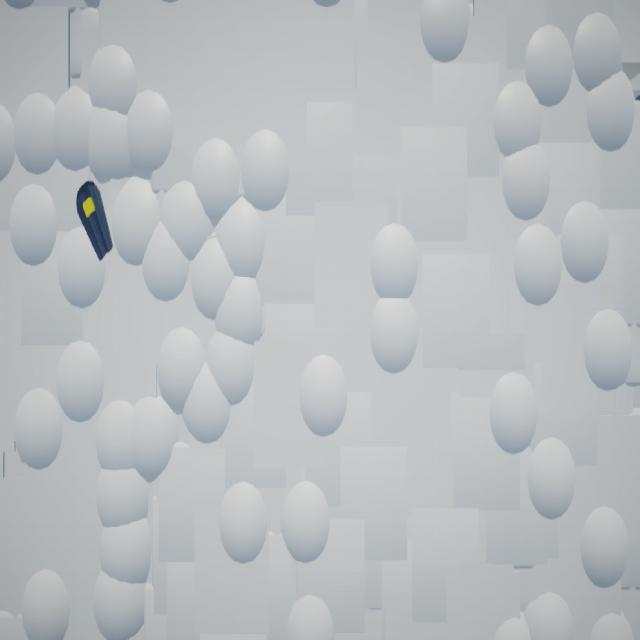handle_folk: (77, 181, 114, 263)
